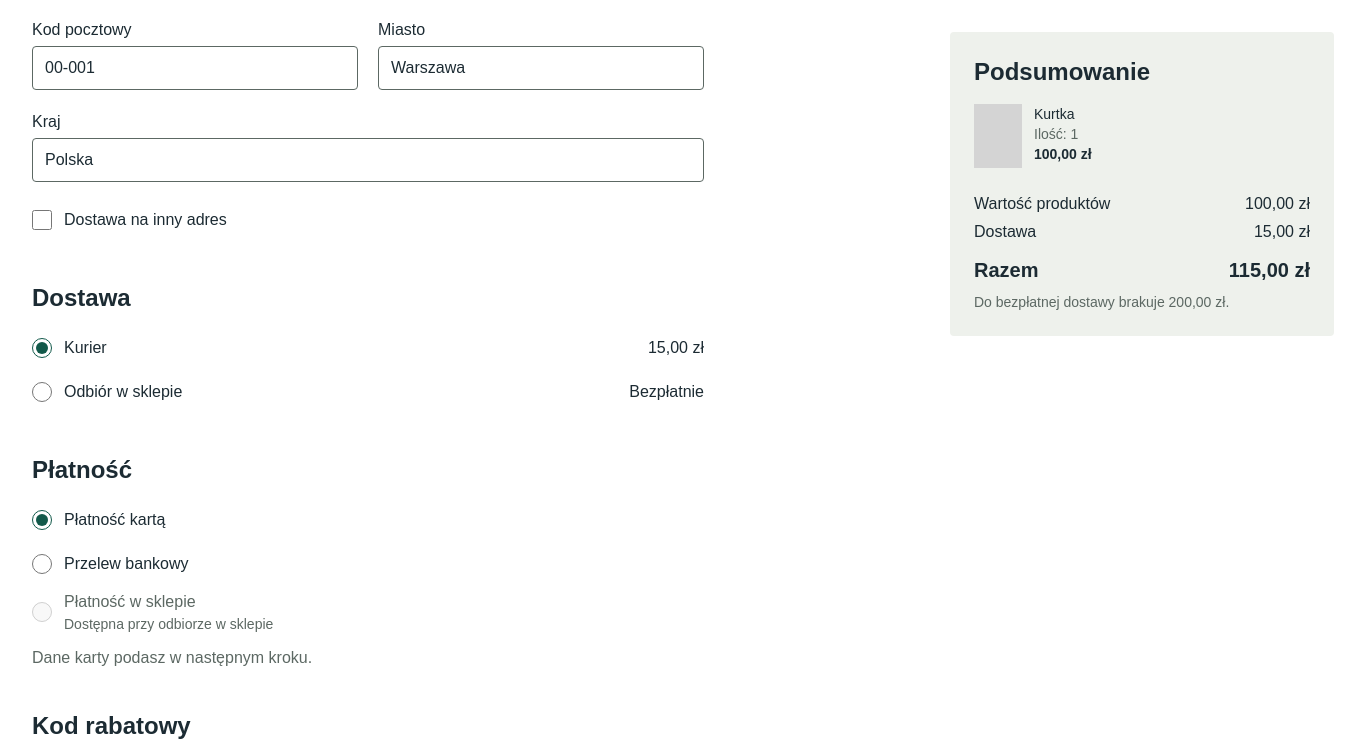
Test: the delivery note › is hidden for store pickup, where nothing is delivered
(page scrolled)
Click the radio button labelled "Odbiór w sklepie Bezpłatnie".
click(42, 392)  # box top-left (32, 382), bottom-right (52, 402)
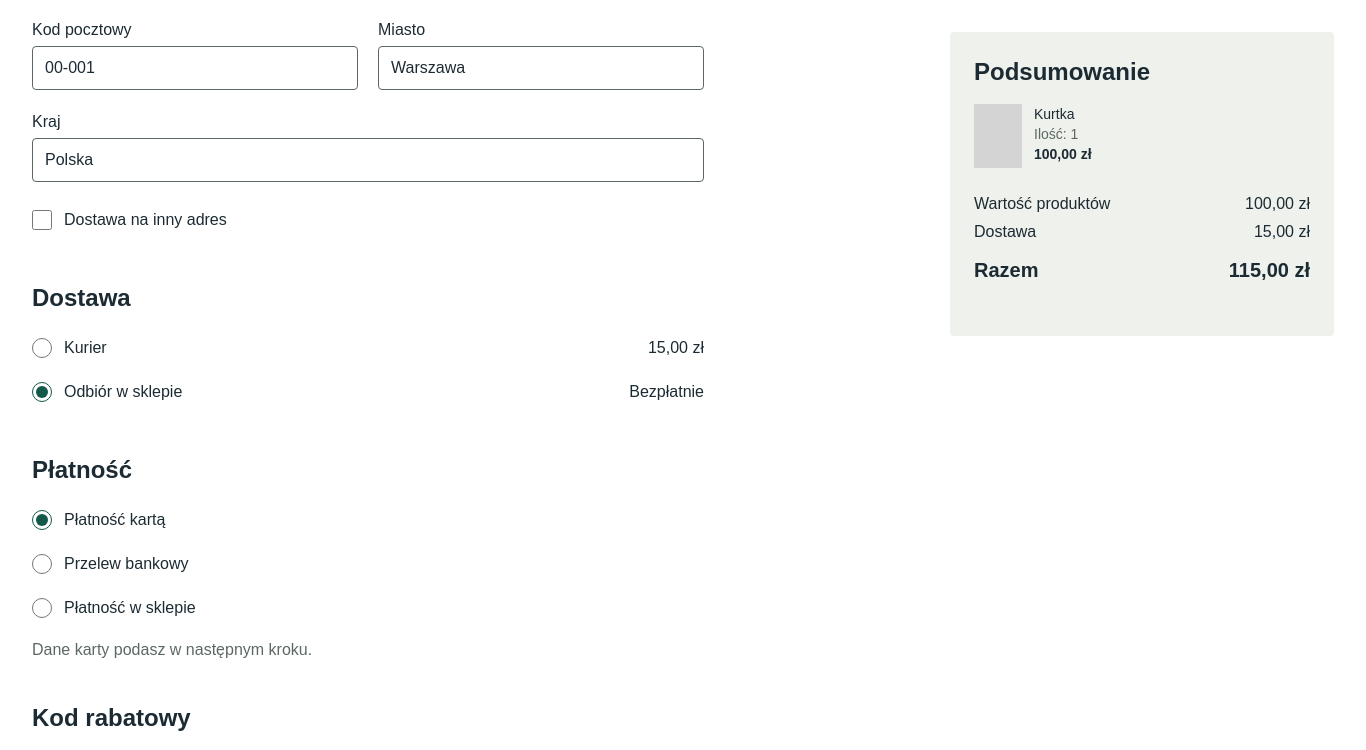
Check: the text "Do bezpłatnej dostawy brakuje" is gone
